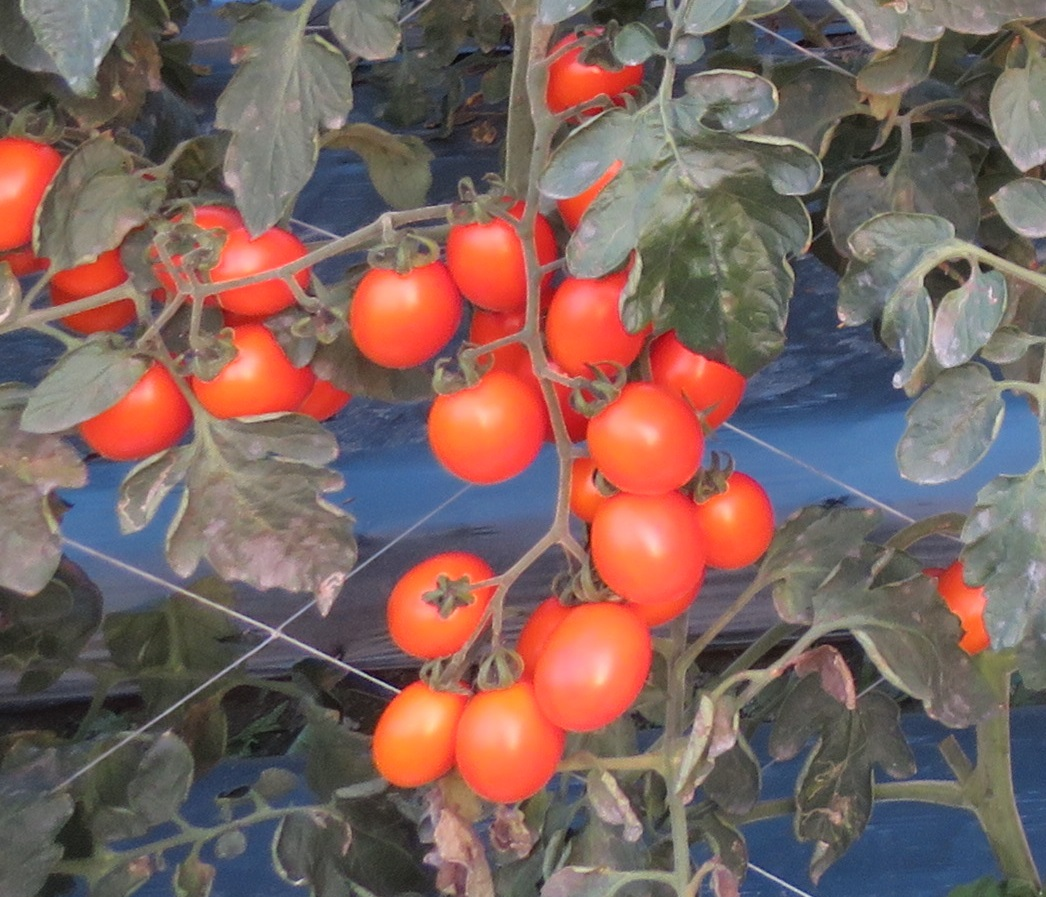orange: (536, 602, 656, 728), (424, 362, 544, 482), (451, 677, 566, 799), (384, 555, 507, 662), (347, 253, 456, 367), (595, 381, 703, 496), (586, 491, 699, 600), (197, 323, 316, 415), (373, 678, 468, 793), (447, 198, 541, 303), (546, 269, 637, 373), (86, 372, 190, 462), (209, 227, 310, 314), (551, 30, 647, 113), (687, 477, 770, 572), (1, 137, 63, 262)
